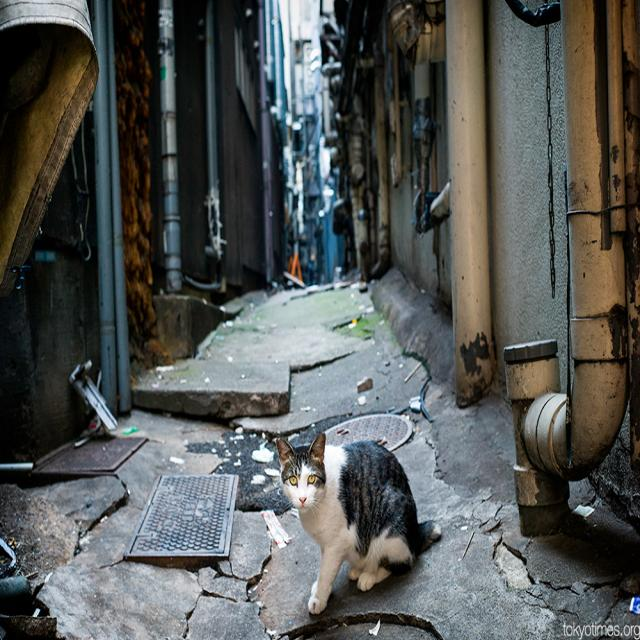cat: (276, 431, 441, 614)
